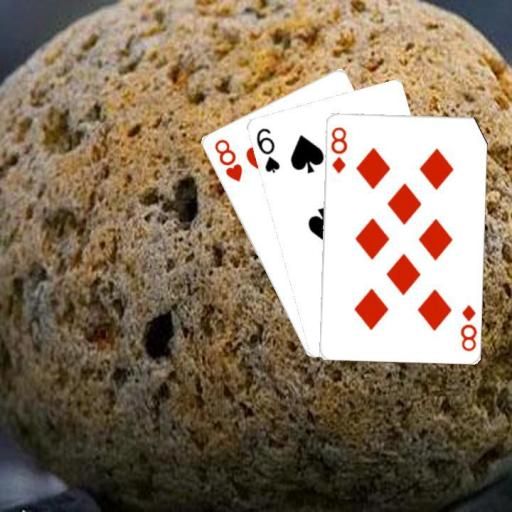6S: (252, 125, 281, 175)
8D: (328, 124, 348, 175), (457, 301, 477, 352)
8H: (210, 135, 244, 184)
